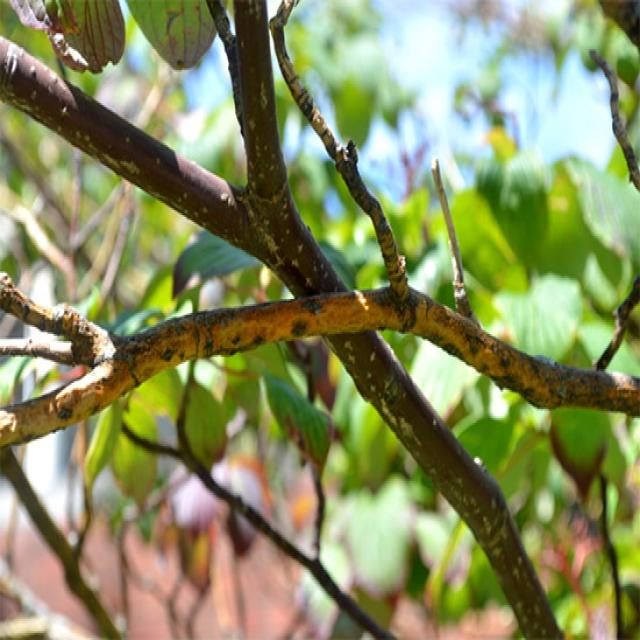Golden_canker: (0, 175, 640, 529)
